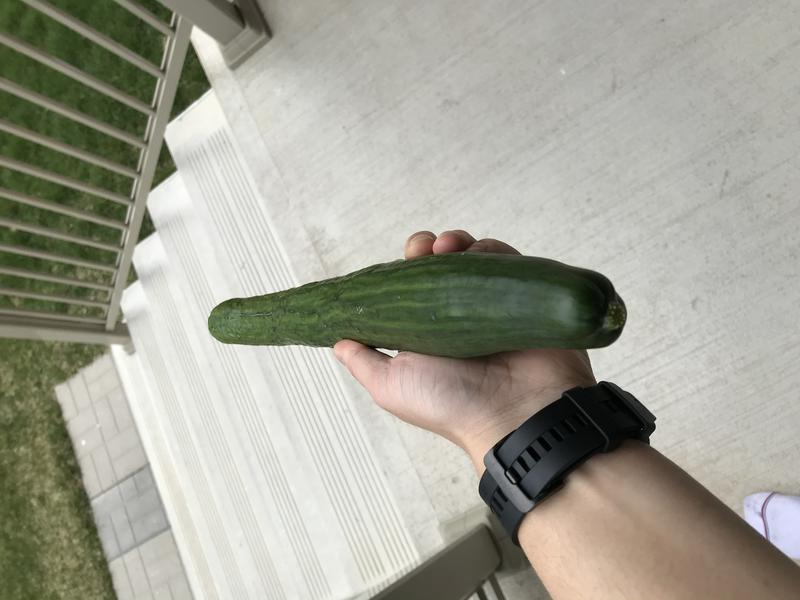cucumber: (193, 244, 644, 370)
